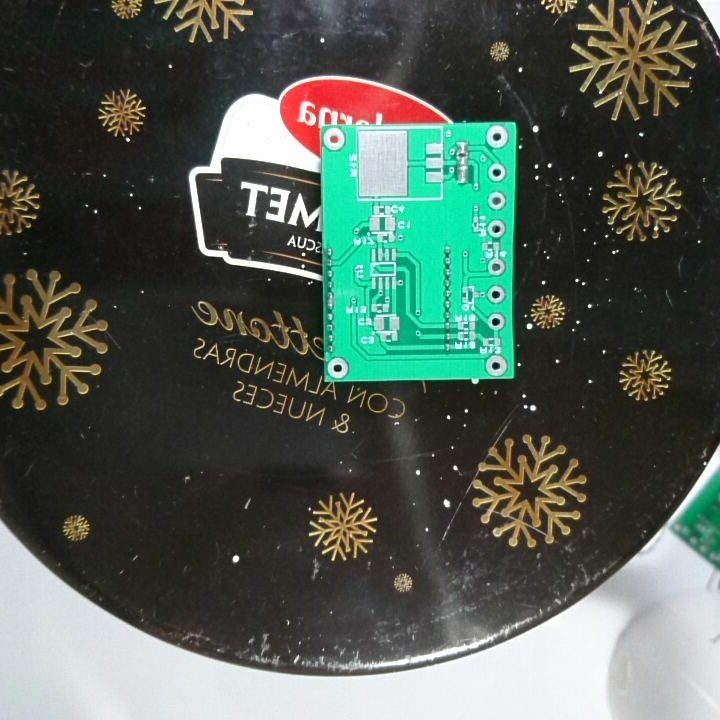F: (483, 123, 512, 151), (322, 126, 348, 154), (484, 352, 508, 378), (326, 355, 350, 380), (485, 310, 508, 335), (485, 283, 508, 307), (485, 189, 508, 212), (486, 255, 508, 279), (486, 217, 508, 239), (487, 161, 508, 184)
P: (455, 153, 469, 188), (324, 289, 337, 312)
